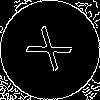X: (25, 25, 82, 79)
